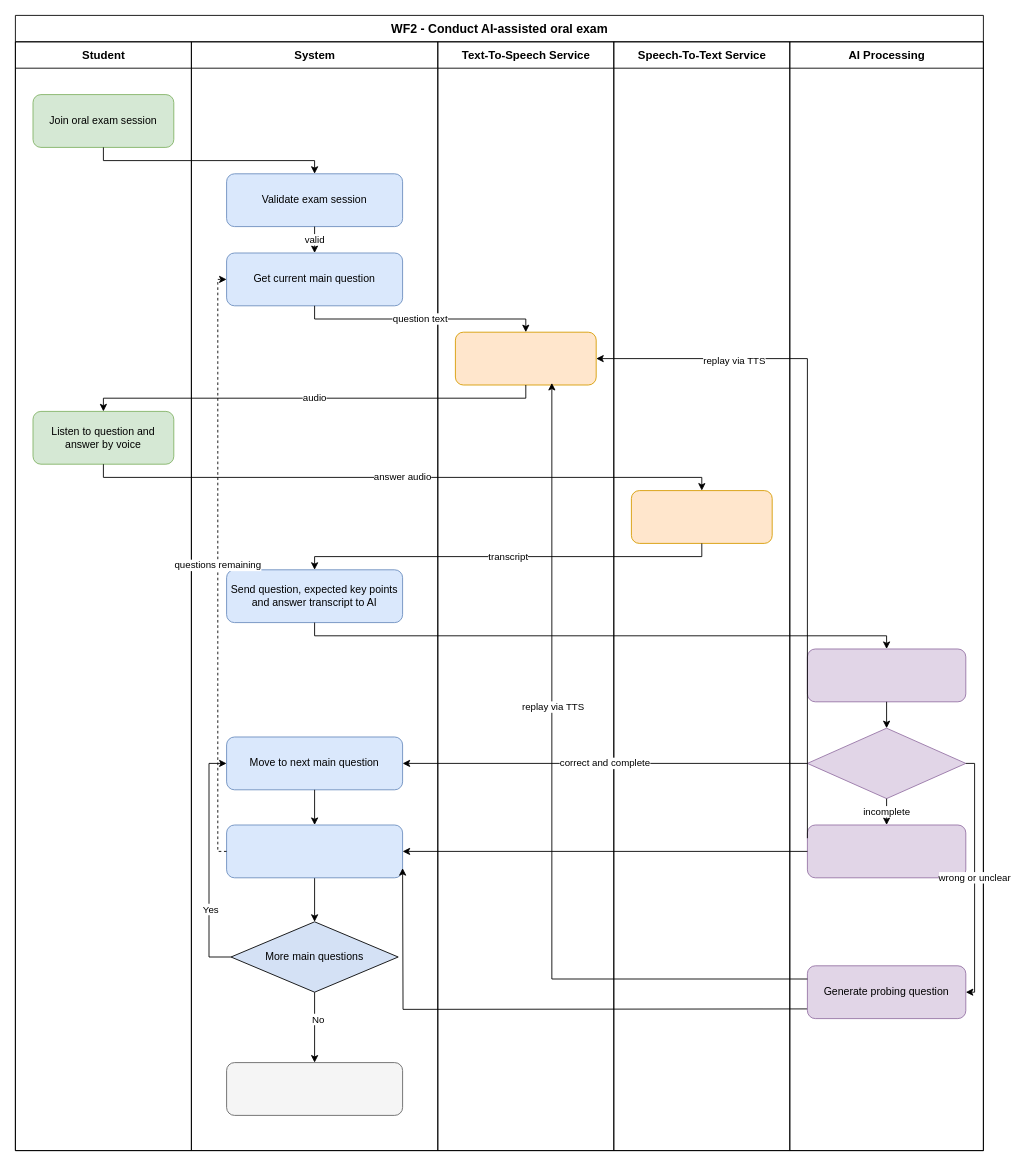
Image size: 1026x1166. Some labels were removed from this diagram. The shapes that lost their labels are listed below. From the top down, each one's centre as x and y in pixels, then its label:
(525,358): Convert question text into audio
(701,516): Convert answer audio into text
(886,675): Analyze answer
(886,763): Determine next action
(314,851): Save answer, transcript, AI decision and activity logs
(886,851): Generate follow-up question
(314,1088): End exam
